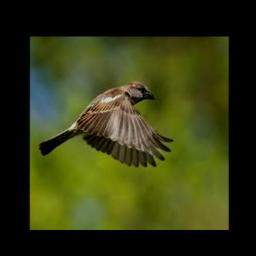Sparrow: (39, 81, 174, 167)
